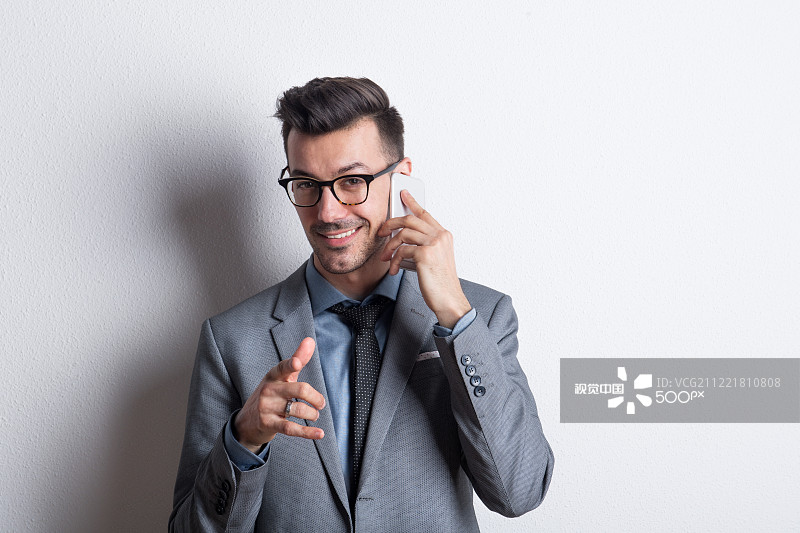calling: (374, 166, 485, 328)
no-phone: (222, 326, 345, 458)
